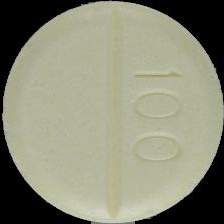55154-8285: (0, 0, 224, 224)
